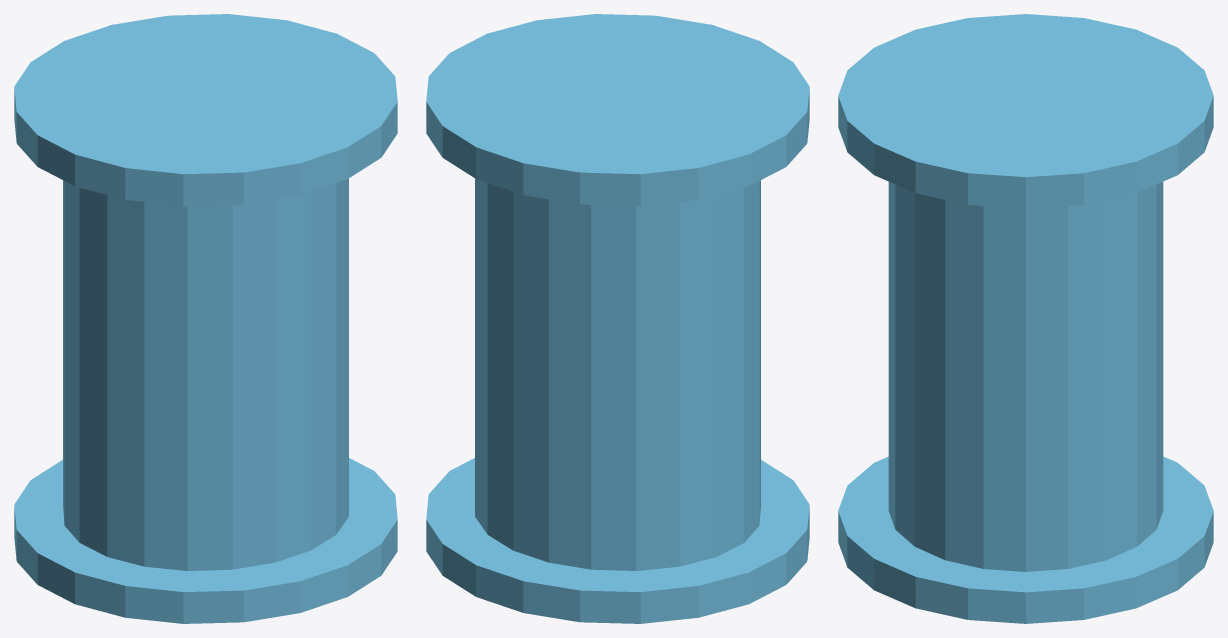
File: can_blue.gltf
3 views of the same model, side by side, from view 1: azimuth 30°, elevation 25°; view 2: azimuth 150°, elevation 25°; view 3: azimuth 270°, elevation 25° (orthographic).
Visible parts, largest first — view 1: Цилиндр (×3); view 2: Цилиндр (×3); view 3: Цилиндр (×3).
Part boxes in pixels (<box>): Цилиндр (×3): <box>14,14,397,623</box>; Цилиндр (×3): <box>426,14,809,623</box>; Цилиндр (×3): <box>838,14,1213,623</box>.
Size of the model in its own units: 1.97 by 2.51 by 1.91.
